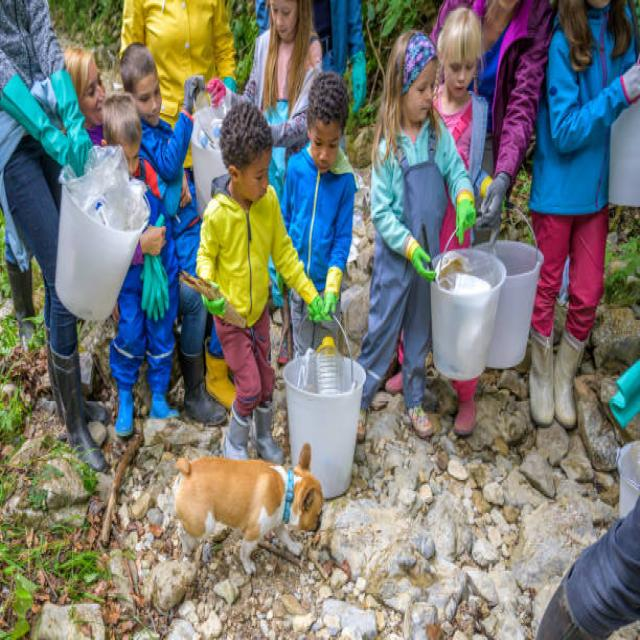plastic: (434, 243, 539, 378), (64, 166, 132, 317), (289, 340, 363, 447), (196, 108, 217, 171)
